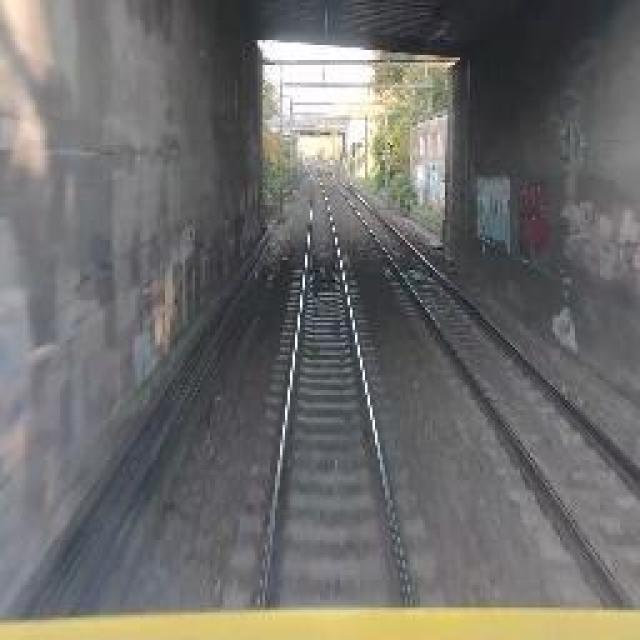rail: (206, 158, 452, 616)
